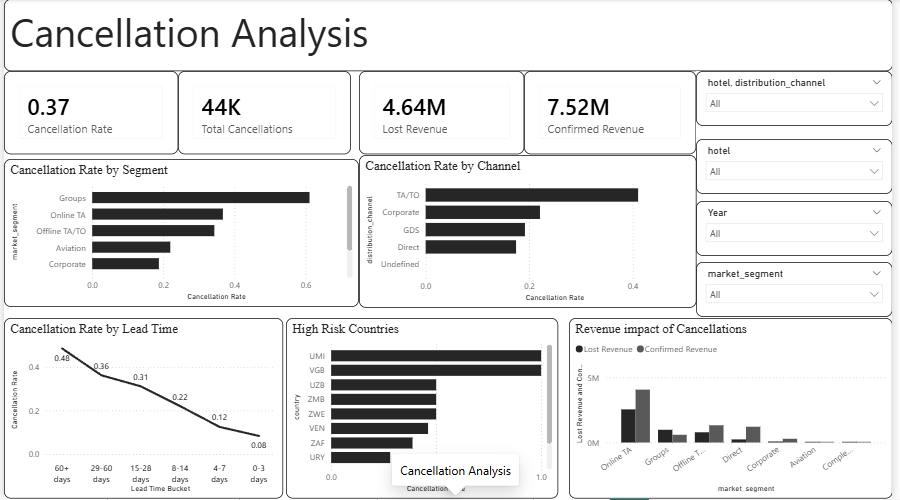

This screenshot's page, from the dashboard's own definition file:
{"tool":"powerbi","page":{"name":"Cancellation Analysis","canvas":[1280,720],"ordinal":3},"visuals":[{"type":"textbox","box":[0,0,1280,104.3],"z":0},{"type":"slicer","fields":{"Values":["hotel_bookings.hotel"]},"box":[996.6,202.4,283.4,79.4],"z":0,"group":"g1"},{"type":"cardVisual","fields":{"Data":["hotel_bookings.Cancellation Rate"]},"box":[0,104.3,250.7,119.9],"z":1000},{"type":"slicer","fields":{"Values":["hotel_bookings.reservation_status_date.Variation.Date Hierarchy.Year"]},"box":[996.6,291.2,283.4,79.4],"z":1000,"group":"g1"},{"type":"cardVisual","fields":{"Data":["hotel_bookings.Total Cancellations"]},"box":[250.7,104.3,249.1,119.9],"z":2000},{"type":"slicer","fields":{"Values":["hotel_bookings.market_segment"]},"box":[996.6,379.9,283.4,79.4],"z":2000,"group":"g1"},{"type":"cardVisual","fields":{"Data":["hotel_bookings.Lost Revenue"]},"box":[510.8,104.3,238.2,119.9],"z":3000},{"type":"slicer","fields":{"Values":["hotel_bookings.hotel","hotel_bookings.distribution_channel"]},"box":[996.6,104.3,283.4,79.4],"z":3000,"group":"g1"},{"type":"cardVisual","fields":{"Data":["hotel_bookings.Confirmed Revenue"]},"box":[749,104.3,247.6,119.9],"z":4000},{"type":"group","id":"g1","title":"Group 1","box":[996.6,104.3,283.4,355],"z":5000},{"type":"barChart","title":"Cancellation Rate by Segment","fields":{"Category":["hotel_bookings.market_segment"],"Y":["hotel_bookings.Cancellation Rate"]},"box":[0,230.5,510.8,213.3],"z":6000},{"type":"barChart","title":"Cancellation Rate by Channel","fields":{"Category":["hotel_bookings.distribution_channel"],"Y":["hotel_bookings.Cancellation Rate"]},"box":[510.8,224.2,485.8,219.6],"z":7000},{"type":"lineChart","title":"Cancellation Rate by Lead Time ","fields":{"Category":["hotel_bookings.Lead Time Bucket"],"Y":["hotel_bookings.Cancellation Rate"]},"box":[0,459.4,401.8,260],"z":8000},{"type":"barChart","title":"High Risk Countries","fields":{"Category":["hotel_bookings.country"],"Y":["hotel_bookings.Cancellation Rate"]},"box":[406.4,459.4,392.4,260],"z":9000},{"type":"clusteredColumnChart","title":"Revenue impact of Cancellations","fields":{"Category":["hotel_bookings.market_segment"],"Y":["hotel_bookings.Lost Revenue","hotel_bookings.Confirmed Revenue"]},"box":[814.2,459.9,465.8,260.3],"z":10000}]}

Visuals, with their boxes in screenshot pixels (x1, y1, x2, y2), scaled from the page's 1280x720 canvas onto the 900x500 screenshot:
textbox: (x1=0, y1=0, x2=899, y2=72)
slicer - hotel_bookings.hotel: (x1=701, y1=141, x2=899, y2=196)
cardVisual - hotel_bookings.Cancellation Rate: (x1=0, y1=72, x2=176, y2=156)
slicer - hotel_bookings.reservation_status_date.Variation.Date Hierarchy.Year: (x1=701, y1=202, x2=899, y2=257)
cardVisual - hotel_bookings.Total Cancellations: (x1=176, y1=72, x2=351, y2=156)
slicer - hotel_bookings.market_segment: (x1=701, y1=264, x2=899, y2=319)
cardVisual - hotel_bookings.Lost Revenue: (x1=359, y1=72, x2=527, y2=156)
slicer - hotel_bookings.hotel x hotel_bookings.distribution_channel: (x1=701, y1=72, x2=899, y2=128)
cardVisual - hotel_bookings.Confirmed Revenue: (x1=527, y1=72, x2=701, y2=156)
"Group 1" group: (x1=701, y1=72, x2=899, y2=319)
"Cancellation Rate by Segment" barChart: (x1=0, y1=160, x2=359, y2=308)
"Cancellation Rate by Channel" barChart: (x1=359, y1=156, x2=701, y2=308)
"Cancellation Rate by Lead Time " lineChart: (x1=0, y1=319, x2=283, y2=499)
"High Risk Countries" barChart: (x1=286, y1=319, x2=562, y2=499)
"Revenue impact of Cancellations" clusteredColumnChart: (x1=572, y1=319, x2=899, y2=499)
